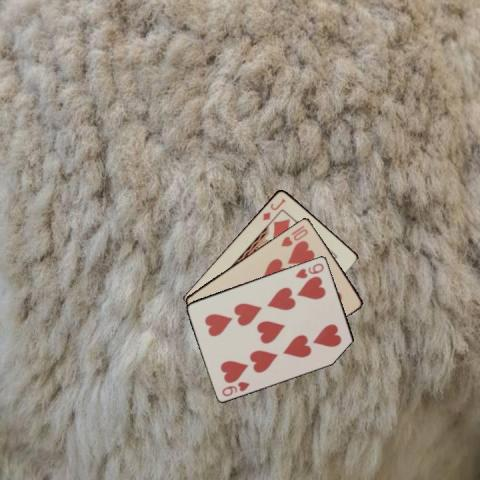10h: (278, 222, 309, 248)
9h: (292, 260, 325, 280), (220, 378, 252, 397)
Jd: (260, 195, 288, 222)
